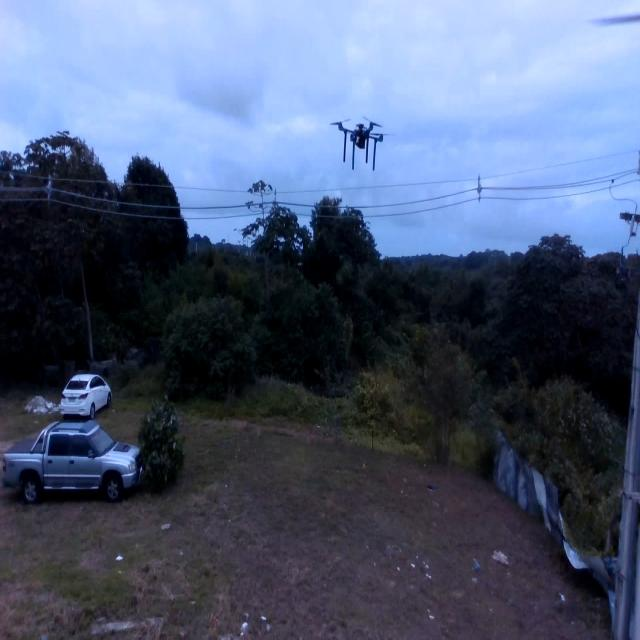-uav-: (321, 94, 404, 182)
